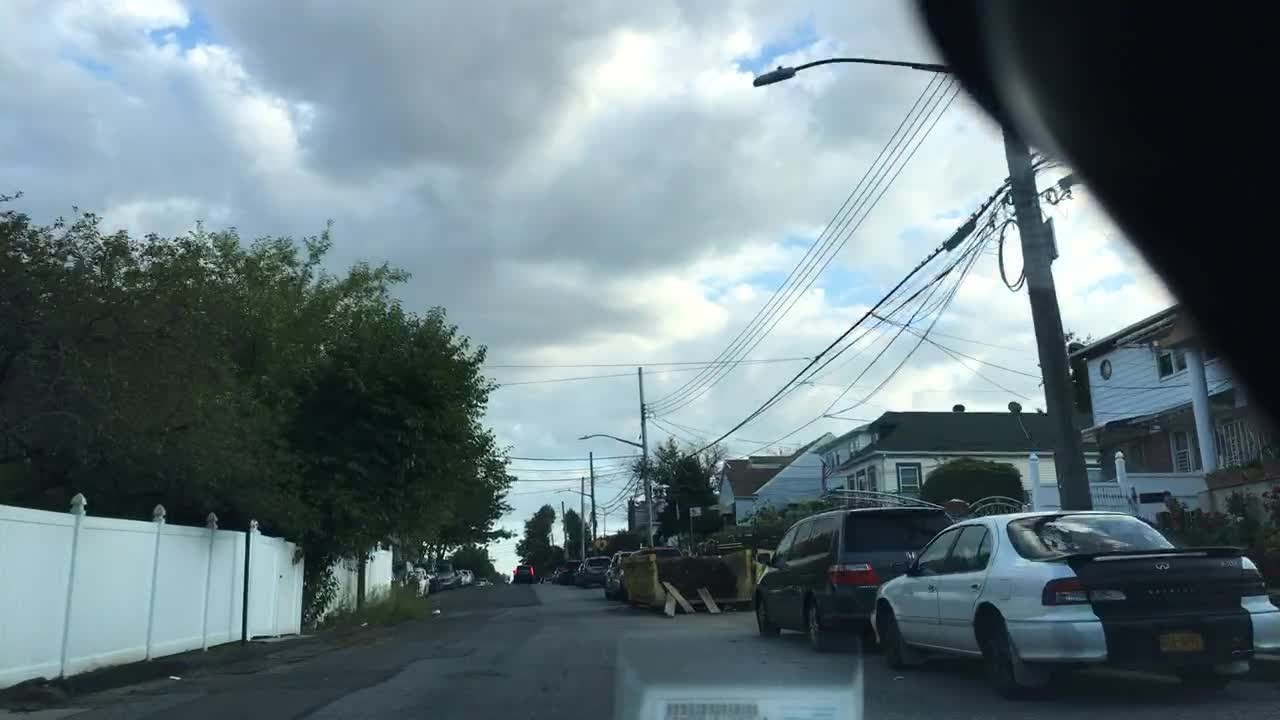car: (871, 508, 1278, 698), (748, 502, 938, 653), (603, 550, 633, 598), (581, 558, 614, 586), (399, 570, 433, 595), (428, 569, 461, 589), (552, 562, 580, 584), (514, 565, 540, 583), (455, 569, 475, 586), (476, 575, 490, 587)
traffic sign: (594, 539, 607, 551)
